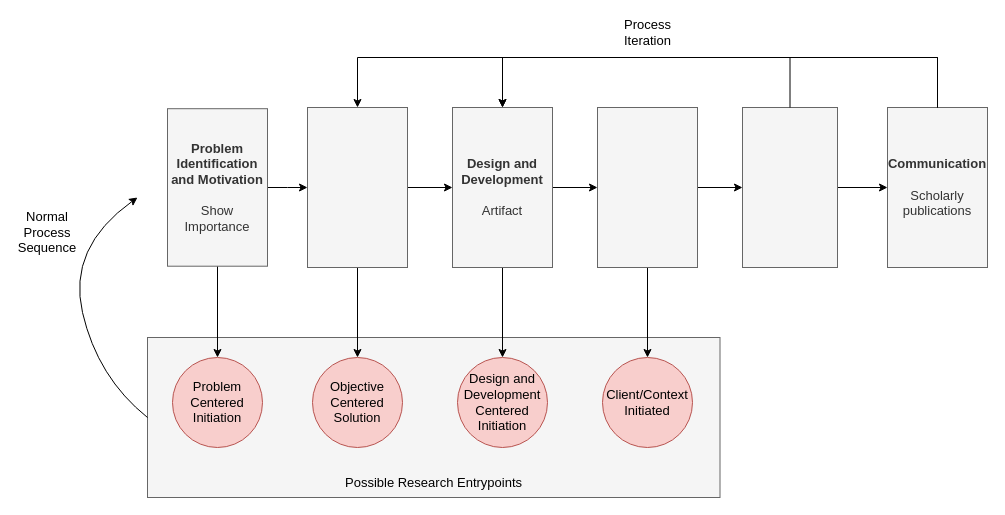
The diagram is 1005 pixels wide and 515 high, and some of its shapes have lost their labels. Here are the shapes that lost their labels. From the top down, the box of each, then its label:
(306, 106, 408, 268): Define Objectives of a Solution What would a better artifact accomplish?
(596, 106, 698, 268): Demonstration Use artifact to solve problem
(742, 106, 838, 268): Evaluation Observe how effective
